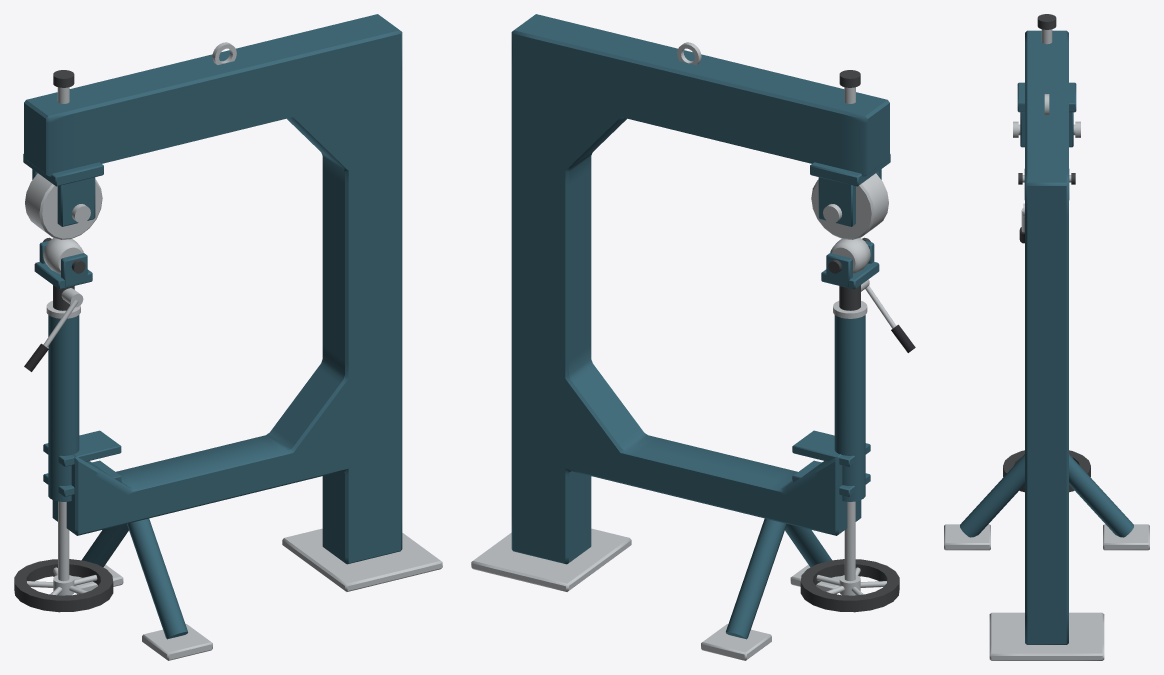
The model's file is A-NEW-20261026-ENGLISH-WHEEL-001_LOD2_R2.glb.
3 views of the same model, side by side, from view 1: azimuth 30°, elevation 25°; view 2: azimuth 150°, elevation 25°; view 3: azimuth 270°, elevation 25° (orthographic). The views are drawn at different scales.
Visible parts, largest first — view 1: deep C frame, lower column sleeve, rear broad base plate, foot adjustment handwheel, splayed front support, upper rolling wheel, front support base plate, upper yoke cheek, column frame bracket.001, splayed front support.001, upper yoke cap, lower adjustment stem (+2 smaller); view 2: deep C frame, lower column sleeve, rear broad base plate, foot adjustment handwheel, splayed front support.001, upper rolling wheel, front support base plate.001, upper yoke cheek.001, column frame bracket.001, splayed front support, upper yoke cap, lower adjustment stem (+1 smaller); view 3: deep C frame, rear broad base plate, splayed front support, splayed front support.001, front support base plate, front support base plate.001, foot adjustment handwheel, upper yoke cap.
Boxes of the visible parts, bbox=[...] form: deep C frame: bbox=[24, 14, 402, 564]; lower column sleeve: bbox=[48, 315, 79, 501]; rear broad base plate: bbox=[282, 528, 442, 591]; foot adjustment handwheel: bbox=[14, 559, 113, 612]; splayed front support: bbox=[127, 518, 187, 639]; upper rolling wheel: bbox=[25, 173, 102, 239]; front support base plate: bbox=[142, 624, 212, 660]; upper yoke cheek: bbox=[57, 177, 95, 226]; column frame bracket.001: bbox=[43, 430, 121, 466]; splayed front support.001: bbox=[82, 524, 128, 567]; upper yoke cap: bbox=[23, 154, 103, 186]; lower adjustment stem: bbox=[58, 501, 69, 581]; deep C frame: bbox=[511, 14, 889, 564]; lower column sleeve: bbox=[834, 315, 865, 501]; rear broad base plate: bbox=[471, 528, 631, 591]; foot adjustment handwheel: bbox=[800, 559, 899, 612]; splayed front support.001: bbox=[726, 518, 786, 639]; upper rolling wheel: bbox=[811, 173, 888, 239]; front support base plate.001: bbox=[701, 624, 771, 660]; upper yoke cheek.001: bbox=[818, 177, 855, 226]; column frame bracket.001: bbox=[792, 430, 870, 466]; splayed front support: bbox=[785, 524, 831, 567]; upper yoke cap: bbox=[810, 154, 890, 186]; lower adjustment stem: bbox=[844, 501, 855, 581]; deep C frame: bbox=[1025, 30, 1068, 644]; rear broad base plate: bbox=[989, 612, 1104, 660]; splayed front support: bbox=[960, 454, 1024, 537]; splayed front support.001: bbox=[1069, 454, 1133, 537]; front support base plate: bbox=[944, 524, 990, 550]; front support base plate.001: bbox=[1103, 524, 1149, 550]; foot adjustment handwheel: bbox=[1003, 450, 1090, 492]; upper yoke cap: bbox=[1017, 82, 1076, 112].
Bounding box in the file's own units: 1.39 × 1.85 × 0.7.
